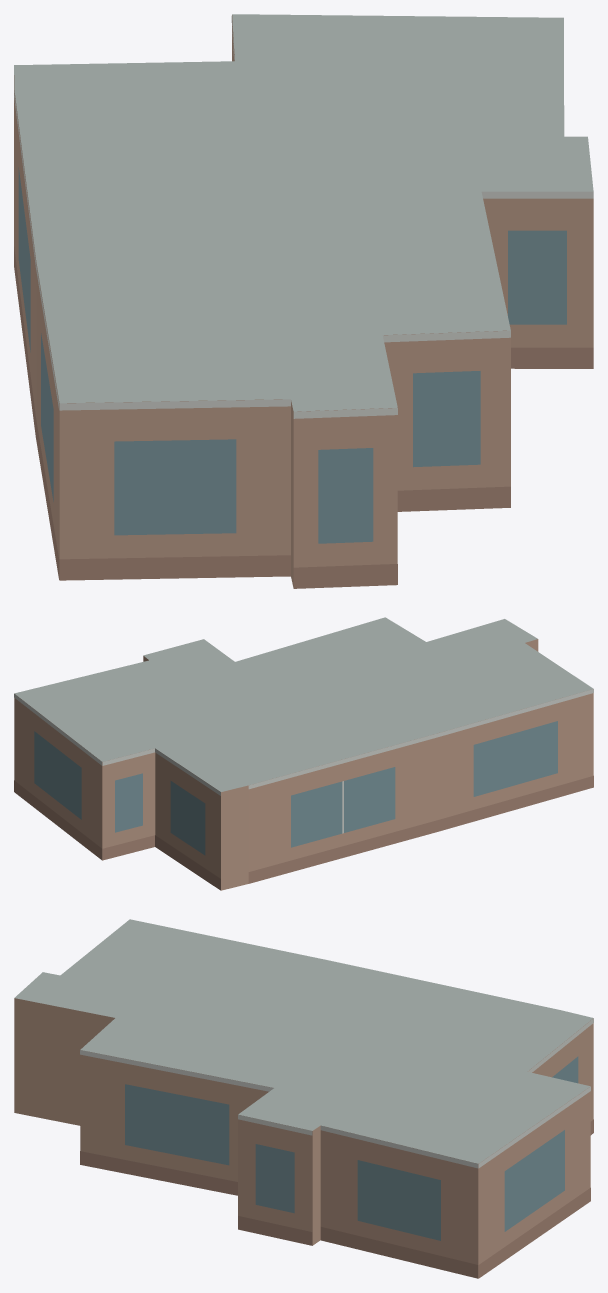
File: survey-upis-32723865.glb
The picture shows the model from 3 angles, top to bottom: view 1: azimuth 30°, elevation 25°; view 2: azimuth 150°, elevation 25°; view 3: azimuth 270°, elevation 25°; orthographic projection. The views are drawn at different scales.
Visible parts, largest first — view 1: survey-upis-32723865.tmp; view 2: survey-upis-32723865.tmp; view 3: survey-upis-32723865.tmp.
Part boxes in pixels (x1,y1,x2,y2): survey-upis-32723865.tmp: [14, 14, 593, 588]; survey-upis-32723865.tmp: [14, 617, 593, 890]; survey-upis-32723865.tmp: [14, 919, 593, 1278].
Bounding box in the file's own units: 13.94 × 3.05 × 13.96.
